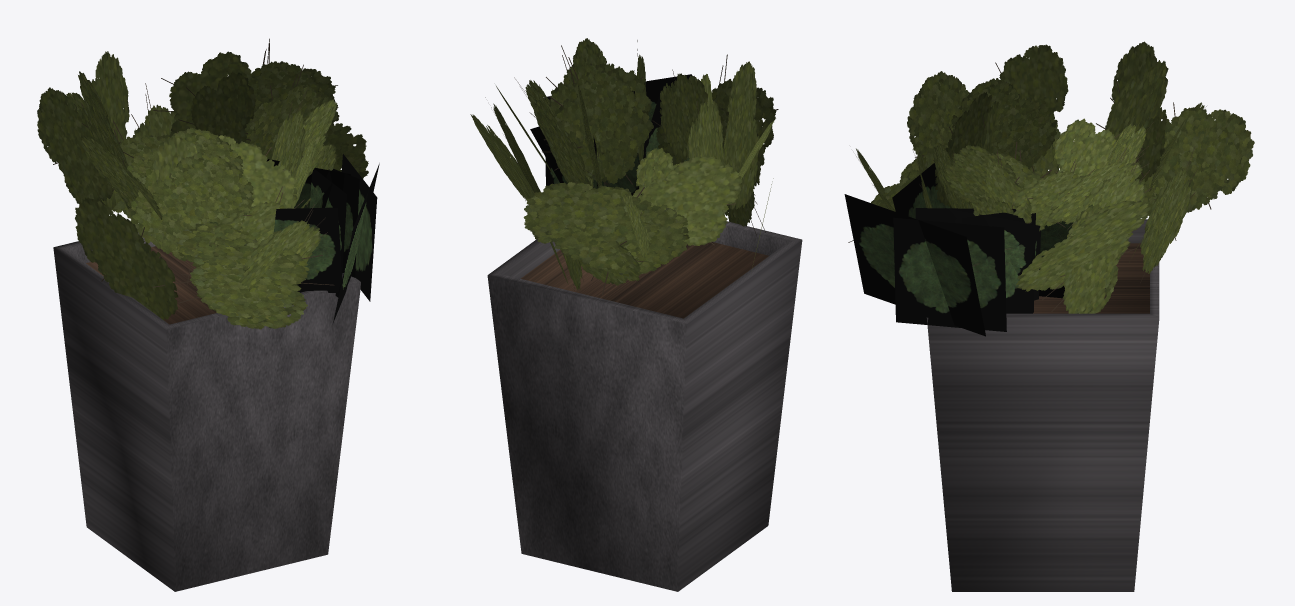
File: SM_Morin_FiorieraB_LOD1.fbx
3 renders of one model, left to right at view 1: azimuth 30°, elevation 25°; view 2: azimuth 150°, elevation 25°; view 3: azimuth 270°, elevation 25°, orthographic. The views are drawn at different scales.
Visible parts, largest first — view 1: SM_Morin_FiorieraB_LOD1; view 2: SM_Morin_FiorieraB_LOD1; view 3: SM_Morin_FiorieraB_LOD1.
Boxes of the visible parts, x1=… form: SM_Morin_FiorieraB_LOD1: x1=37, y1=38, x2=379, y2=591; SM_Morin_FiorieraB_LOD1: x1=470, y1=38, x2=802, y2=591; SM_Morin_FiorieraB_LOD1: x1=844, y1=41, x2=1254, y2=591.
Bounding box in the file's own units: 135 × 143 × 162.
3 materials, 3 textured.
